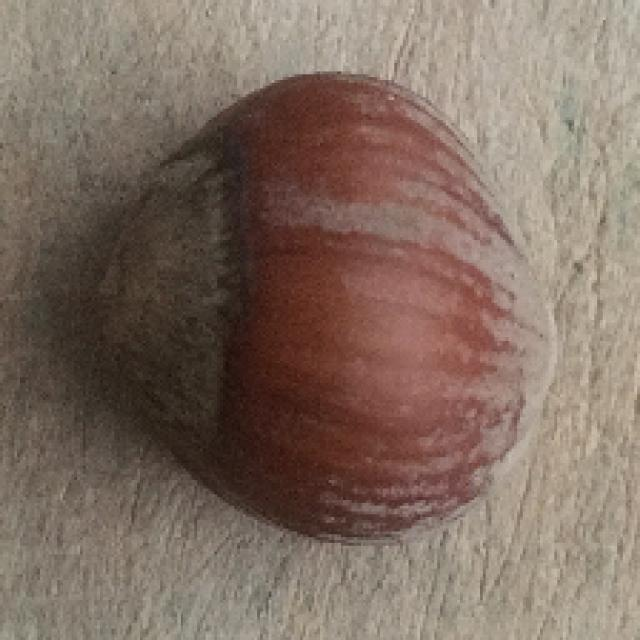qualityHazelnut: (107, 62, 568, 555)
